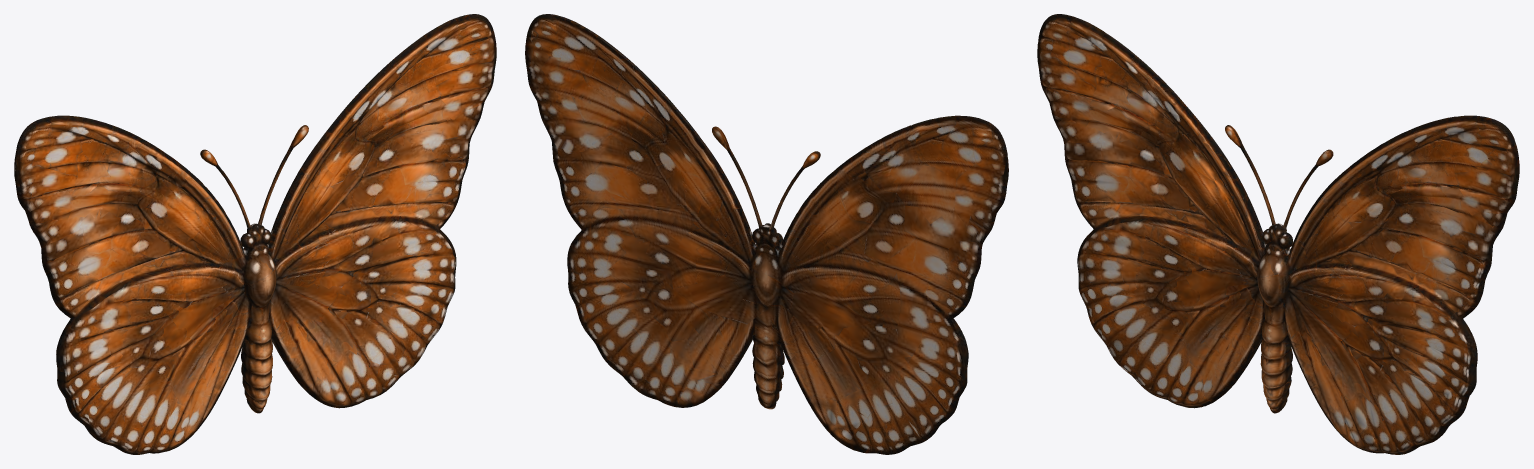
File: butterfly-orange.glb
The picture shows the model from 3 angles, left to right: view 1: azimuth 30°, elevation 25°; view 2: azimuth 150°, elevation 25°; view 3: azimuth 330°, elevation 25°; orthographic projection.
Size of the model in its own units: 1.9 by 1.36 by 0.0968.
1 material, 1 textured.
